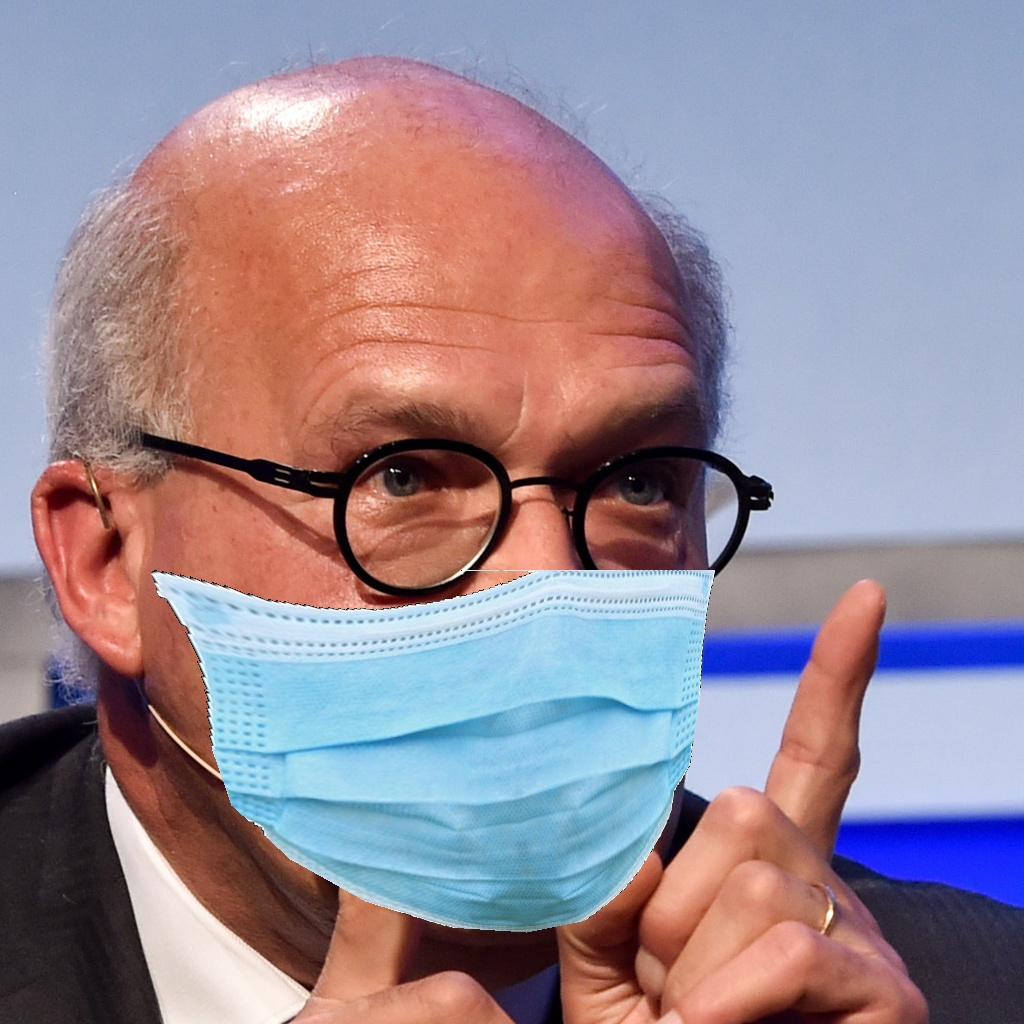Mask: (145, 336, 714, 940)
